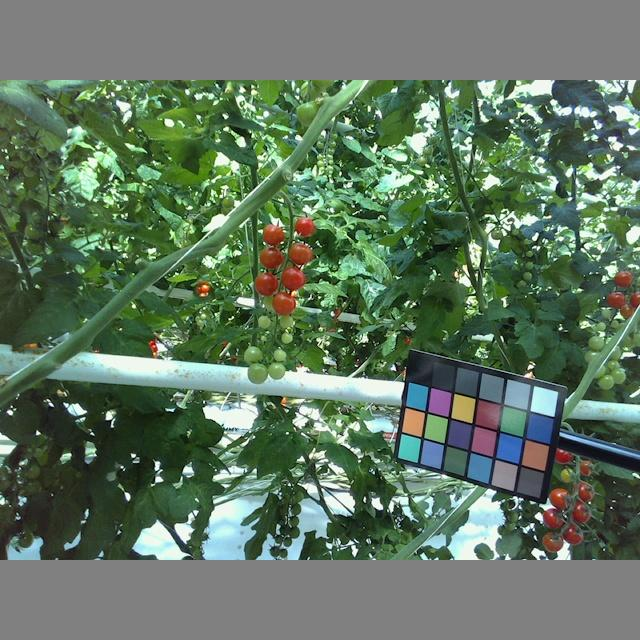green: (243, 343, 264, 367), (247, 361, 268, 384), (267, 362, 287, 379), (559, 466, 575, 482), (257, 312, 270, 330), (279, 315, 294, 330), (273, 347, 286, 360), (280, 331, 293, 343)
pink: (281, 265, 307, 291), (258, 244, 283, 268), (252, 273, 278, 295), (261, 223, 285, 246), (271, 292, 295, 315), (286, 243, 312, 264), (604, 289, 626, 312), (294, 214, 314, 235), (614, 268, 635, 288)
red: (540, 528, 565, 552), (567, 500, 589, 524), (561, 523, 585, 545), (548, 487, 570, 510), (542, 504, 562, 528), (571, 483, 594, 502)
